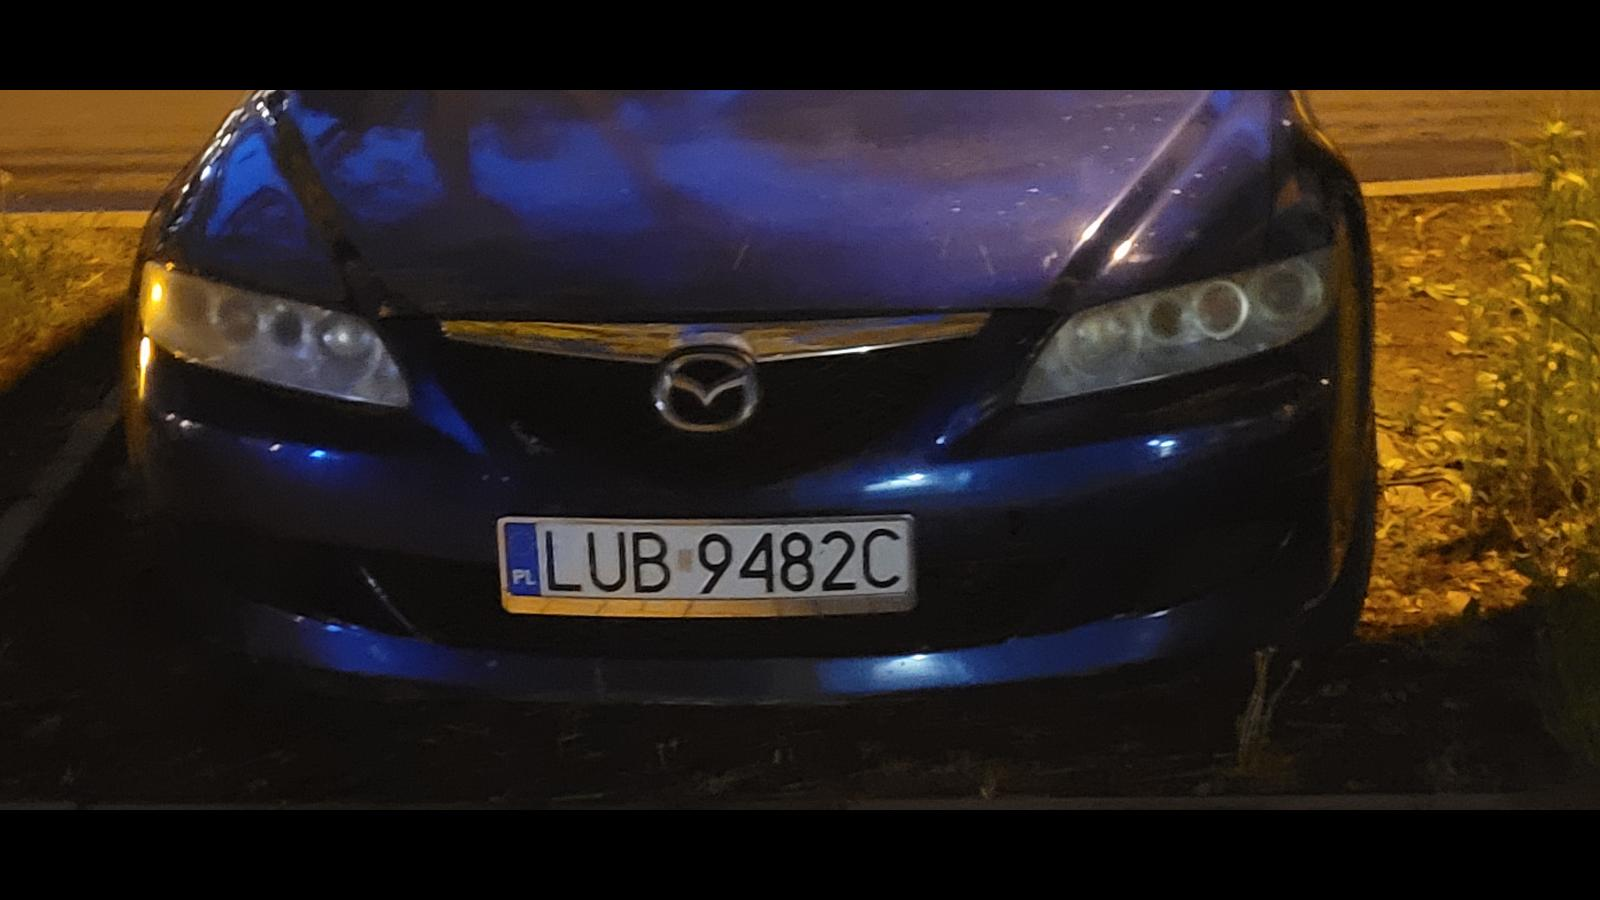plates: (497, 515, 914, 617)
